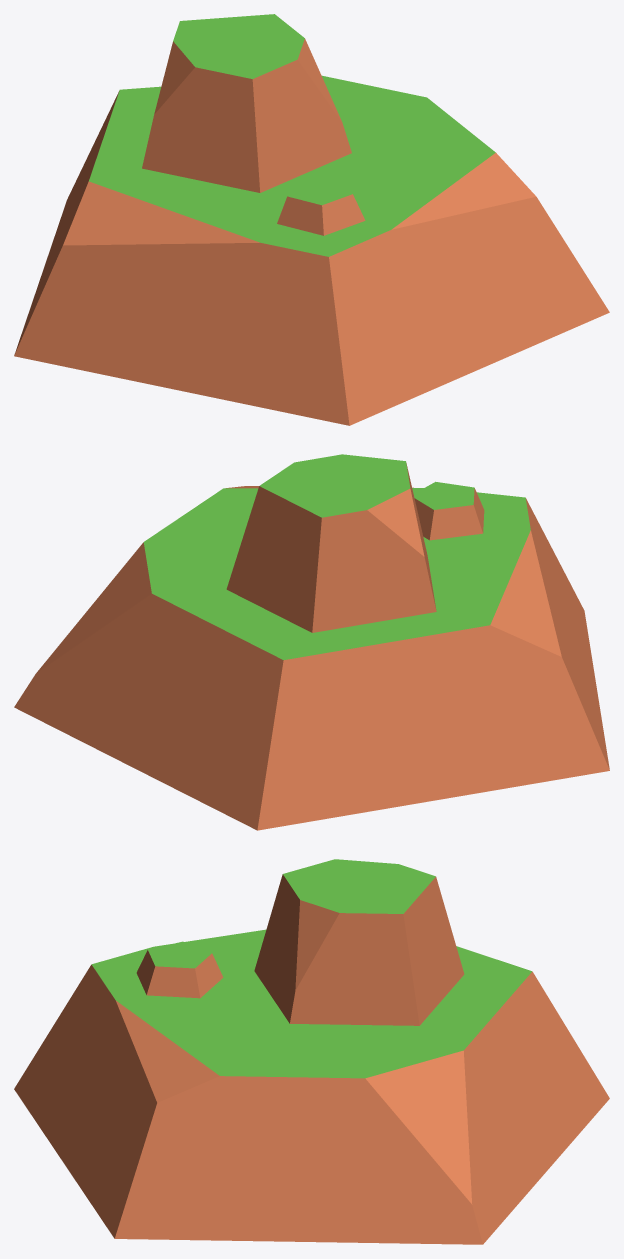
File: rock_smallTopB.glb
3 views of the same model, one above another, from view 1: azimuth 30°, elevation 25°; view 2: azimuth 150°, elevation 25°; view 3: azimuth 270°, elevation 25° (orthographic). The views are drawn at different scales.
Parts seen in each view (by area): view 1: rock_smallTopB; view 2: rock_smallTopB; view 3: rock_smallTopB.
Part boxes in pixels (left/top/right/bottom): rock_smallTopB: left=14, top=14, right=609, bottom=425; rock_smallTopB: left=14, top=454, right=609, bottom=830; rock_smallTopB: left=14, top=859, right=609, bottom=1244.
Bounding box in the file's own units: 0.6221 × 0.28 × 0.6463.
